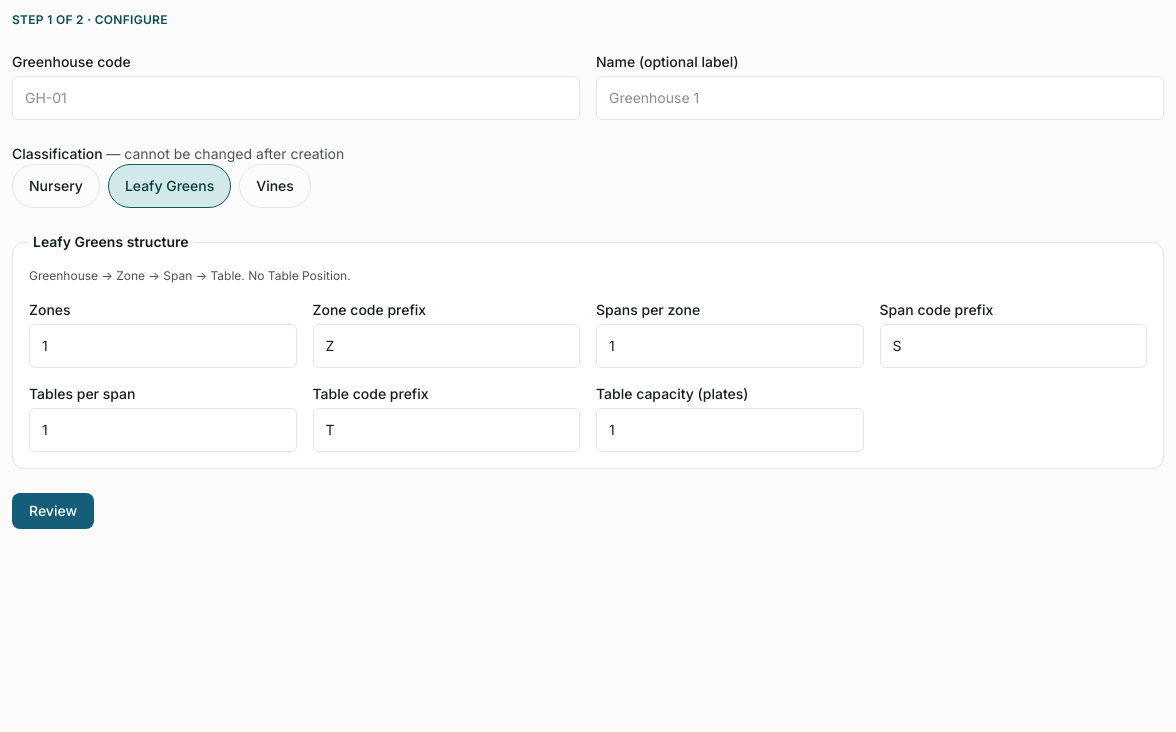
Test: GreenhouseSetupForm › switches to the Vines structure fields when Vines is selected
What coordinates should you click on to do the following:
click the radio button labelled "Vines"
I would click on:
 (275, 186)
Its box is [239,164,311,208].
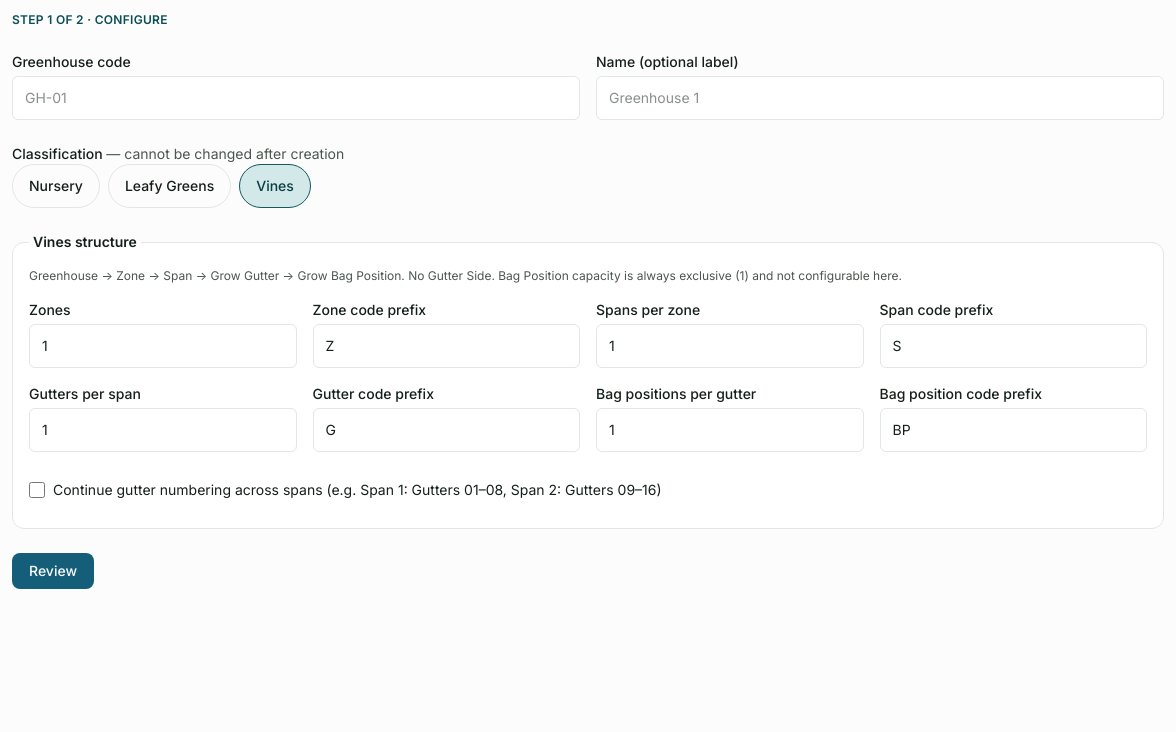
Now the text "Vines structure" is shown, box [29,232,141,252]
Now the text "No Gutter Side" is shown, box [29,268,902,283]
